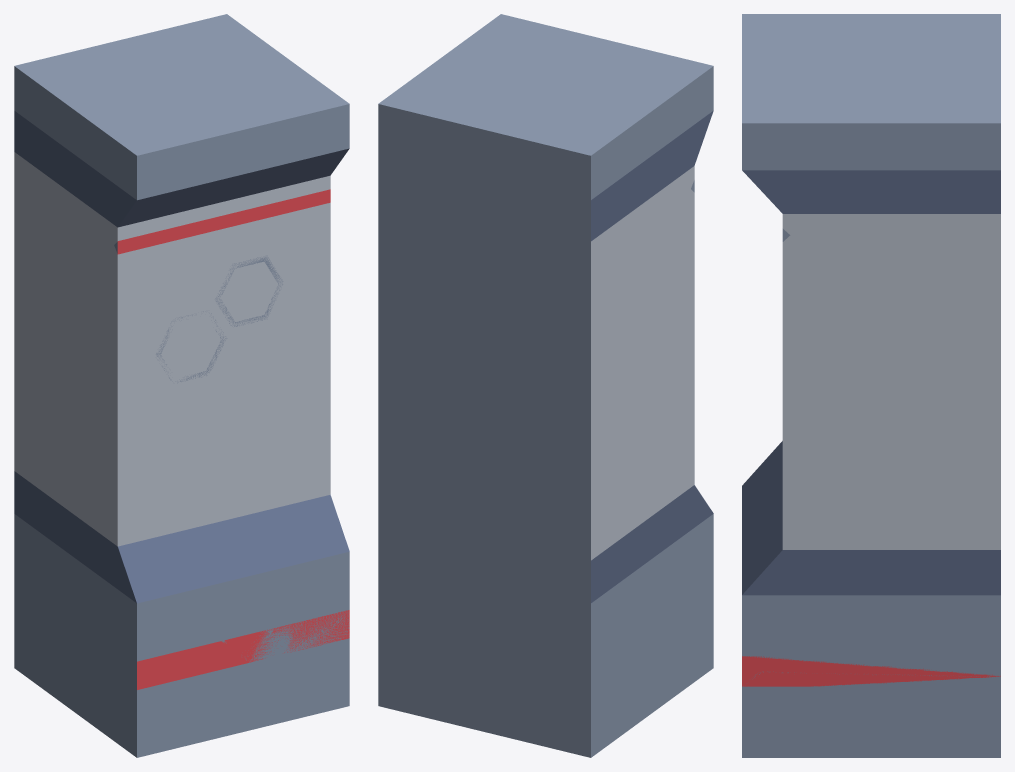
The model's file is redWallVariants.fbx.
3 views of the same model, side by side, from view 1: azimuth 30°, elevation 25°; view 2: azimuth 150°, elevation 25°; view 3: azimuth 270°, elevation 25° (orthographic). The views are drawn at different scales.
Visible parts, largest first — view 1: redWallCorner, redWall2, redWall1, redWall1.3; view 2: redWallCorner, redWall1; view 3: redWall1, redWallCorner, redWall1.3.
Part boxes in pixels (x1,y1,x2,y2): redWallCorner: (14,14,349,757); redWall2: (119,190,349,704); redWall1: (119,148,349,550); redWall1.3: (119,204,348,551); redWallCorner: (378,14,713,757); redWall1: (378,148,590,756); redWall1: (742,170,1000,757); redWallCorner: (742,14,1000,757); redWall1.3: (743,446,782,592).
Bounding box in the file's own units: 200 × 541 × 200.
